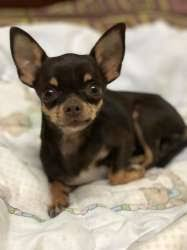chihuahua: (3, 10, 187, 213)
